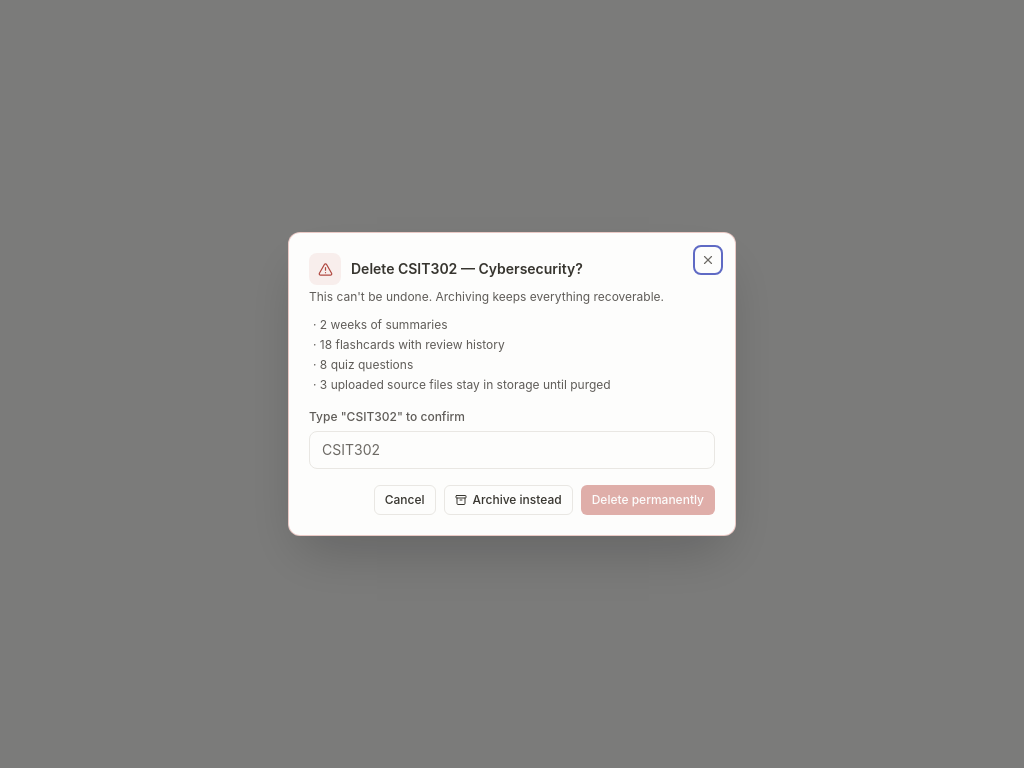
Test: DeleteCourseModal › keeps the delete button disabled until the typed code matches
Expected: the button "Delete permanently" is disabled, left=581, top=485, right=715, bottom=515
Type "CSIT30" into the field labelled "Type \"CSIT302\" to confirm" at coordinates (512, 450), box left=309, top=431, right=715, bottom=469
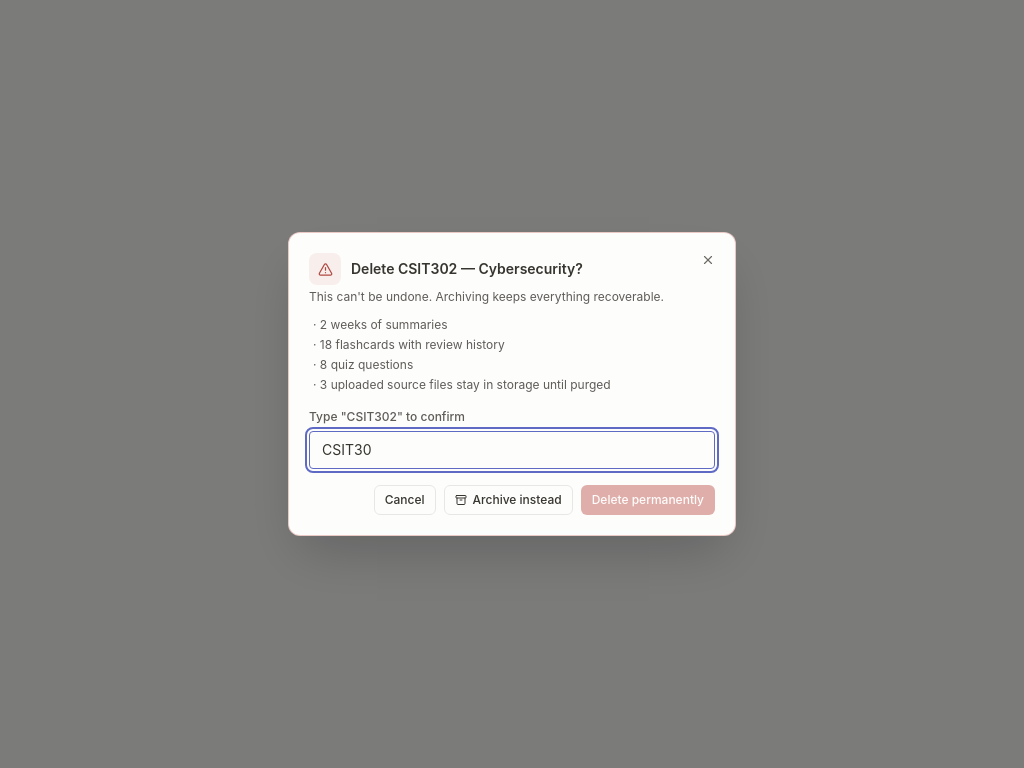
Expected: the button "Delete permanently" is disabled, left=581, top=485, right=715, bottom=515
Type "2" into the field labelled "Type \"CSIT302\" to confirm" at coordinates (512, 450), box left=309, top=431, right=715, bottom=469
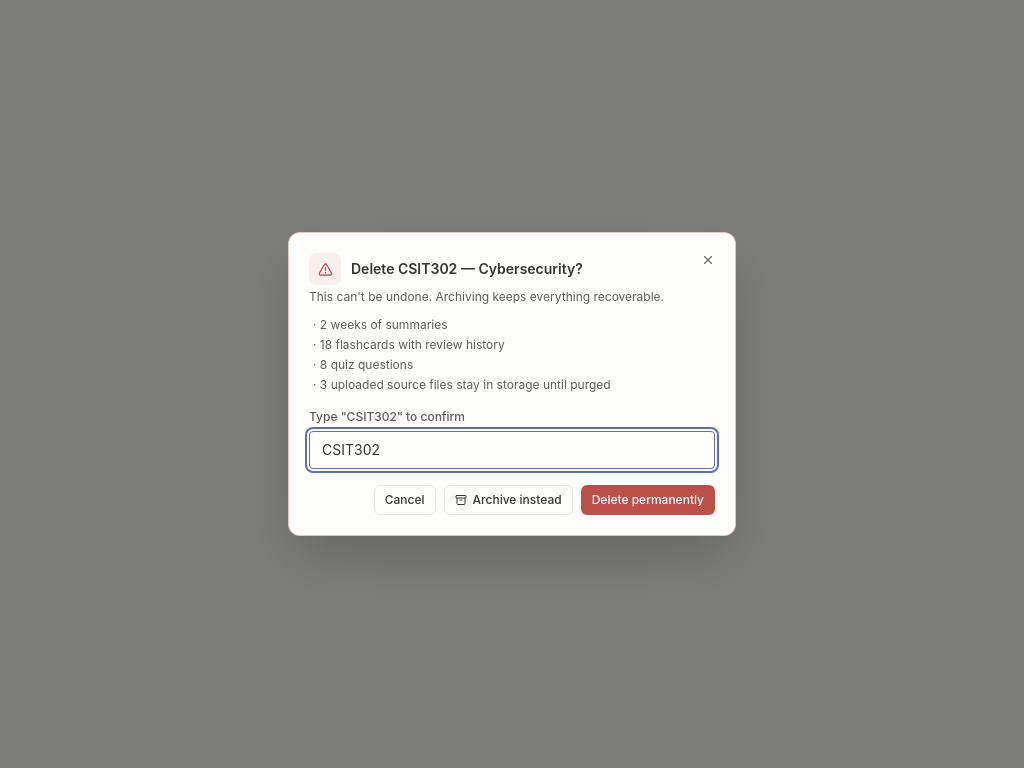
Result: the button "Delete permanently" is enabled at left=581, top=485, right=715, bottom=515
Type "X" into the field labelled "Type \"CSIT302\" to confirm" at coordinates (512, 450), box left=309, top=431, right=715, bottom=469
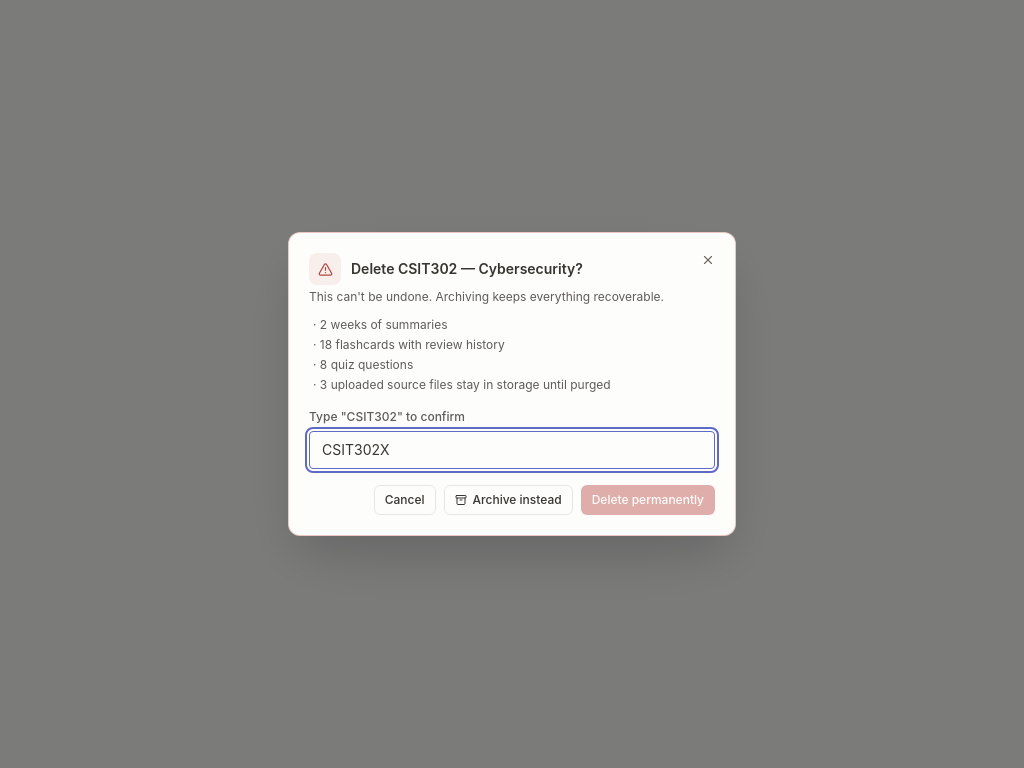
Result: the button "Delete permanently" is disabled at left=581, top=485, right=715, bottom=515
